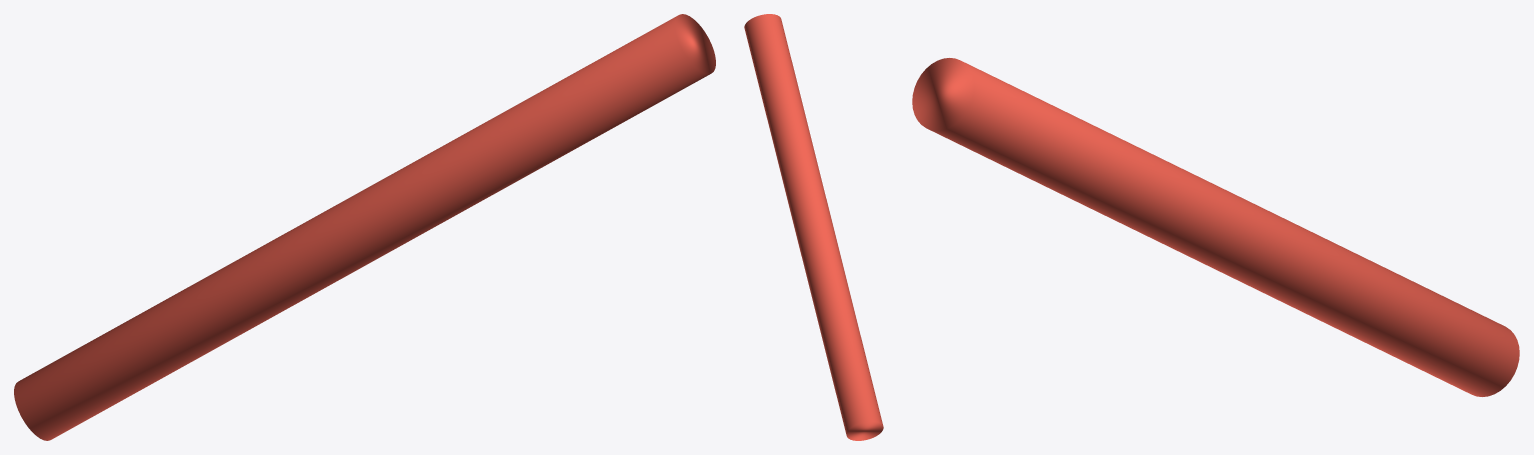
Rendered from HATCH_PCV_Silicone_Vacuum_Hose_1.glb.
3 renders of one model, left to right at view 1: azimuth 30°, elevation 25°; view 2: azimuth 150°, elevation 25°; view 3: azimuth 270°, elevation 25°, orthographic. The views are drawn at different scales.
Visible parts, largest first — view 1: HATCH_PCV_Silicone_Vacuum_Hose_1; view 2: HATCH_PCV_Silicone_Vacuum_Hose_1; view 3: HATCH_PCV_Silicone_Vacuum_Hose_1.
Boxes of the visible parts, box(x1,y1,x2,y2) form: HATCH_PCV_Silicone_Vacuum_Hose_1: box(14, 14, 715, 440); HATCH_PCV_Silicone_Vacuum_Hose_1: box(744, 14, 883, 440); HATCH_PCV_Silicone_Vacuum_Hose_1: box(912, 58, 1519, 396).
Size of the model in its own units: 0.1289 by 0.1289 by 0.1278.
